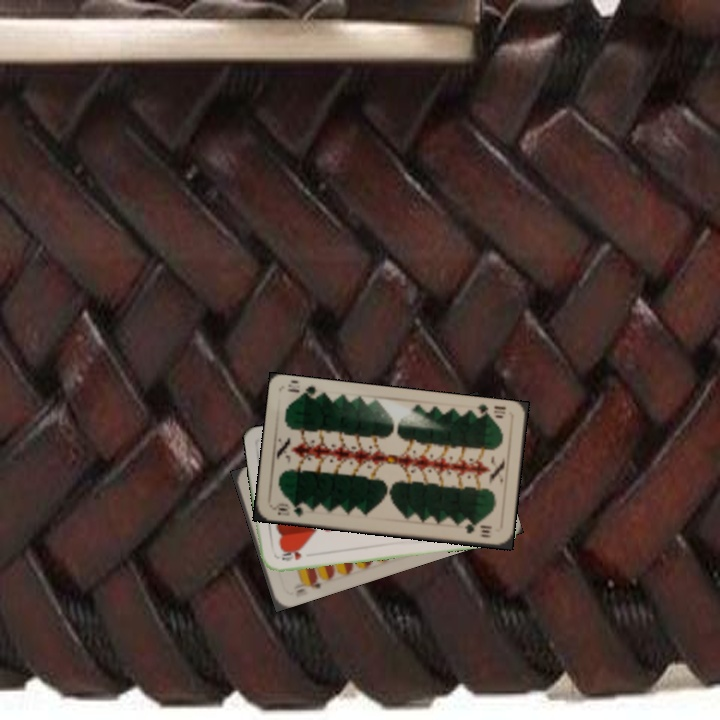E10: (290, 574, 323, 595)
G10: (470, 400, 508, 421), (269, 499, 305, 519)
HO: (275, 546, 305, 564)
